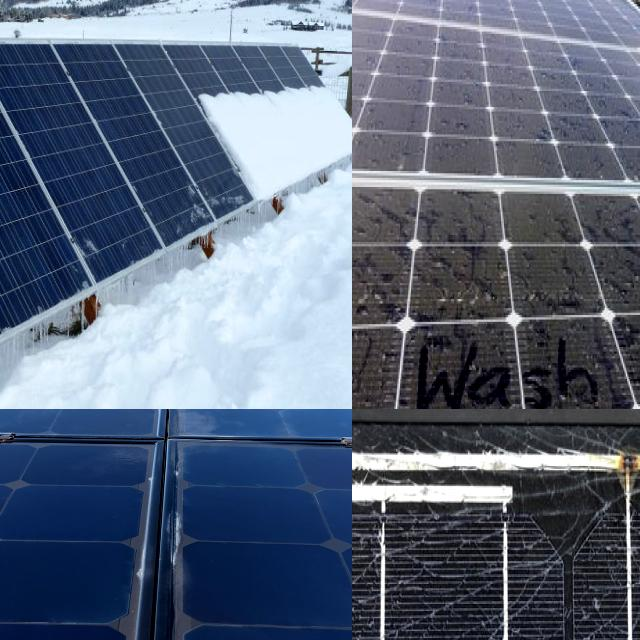bird: (609, 433, 640, 501)
crack: (0, 520, 161, 640), (175, 542, 352, 634), (164, 473, 350, 552), (0, 479, 189, 546), (0, 531, 58, 640), (0, 475, 78, 551), (165, 409, 323, 442), (56, 409, 164, 449), (298, 484, 352, 558)
dust: (352, 185, 501, 315), (362, 43, 516, 167), (411, 332, 613, 409), (512, 199, 640, 314), (546, 62, 640, 175), (352, 333, 404, 409)
panel: (195, 69, 352, 205)
